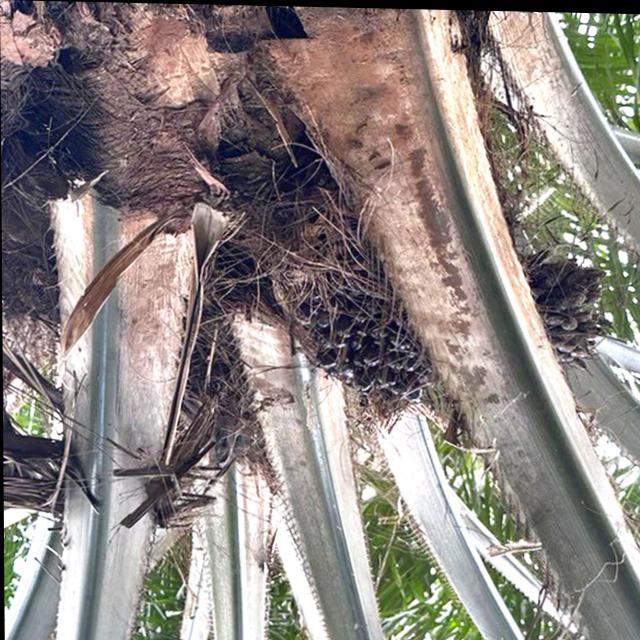almost: (248, 197, 432, 411)
